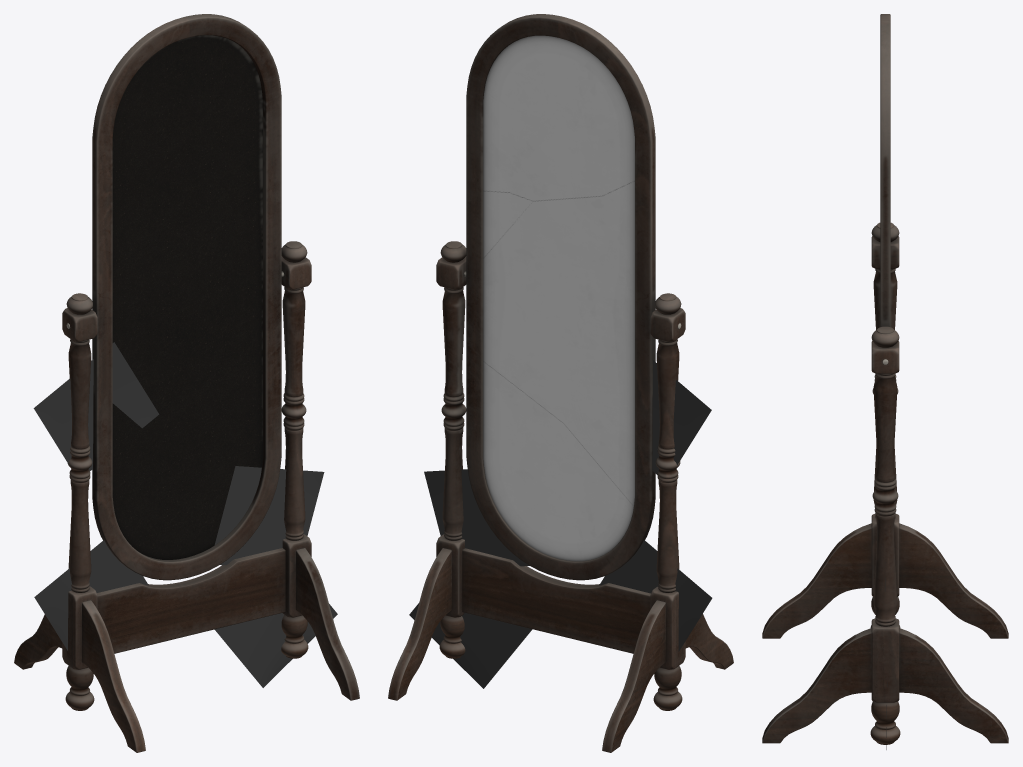
The model's file is antique_standing_mirror.fbx.
The picture shows the model from 3 angles, left to right: view 1: azimuth 30°, elevation 25°; view 2: azimuth 150°, elevation 25°; view 3: azimuth 270°, elevation 25°; orthographic projection.
Visible parts, largest first — view 1: antique_standing_mirror; view 2: antique_standing_mirror; view 3: antique_standing_mirror.
Part boxes in pixels (bbox=[...]): antique_standing_mirror: bbox=[14, 14, 359, 752]; antique_standing_mirror: bbox=[388, 14, 733, 752]; antique_standing_mirror: bbox=[762, 14, 1008, 749].
Size of the model in its own units: 89.46 by 194 by 62.75.
